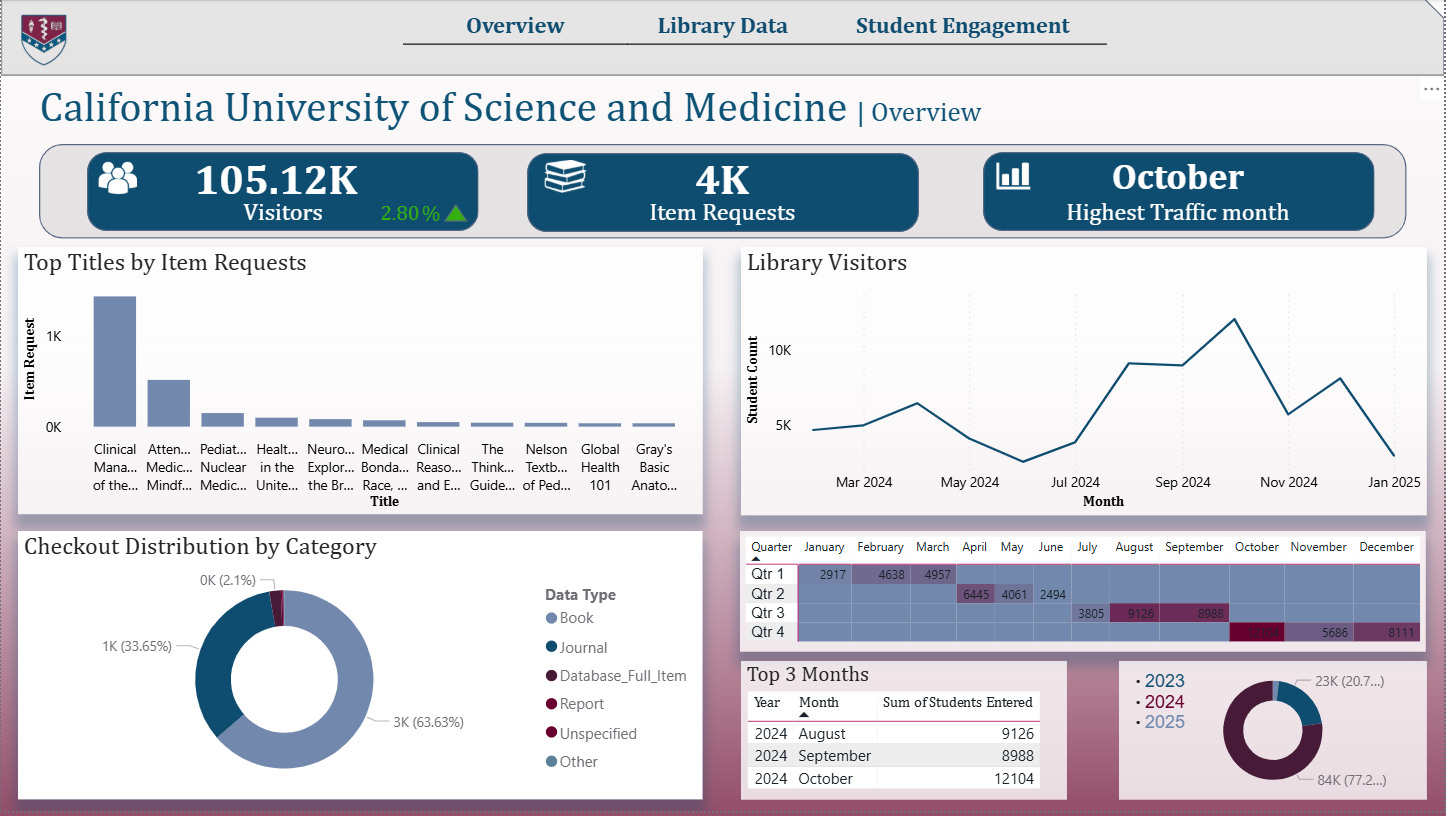

What the dashboard file says about the page in this screenshot:
{"tool":"powerbi","page":{"name":"Overview","canvas":[1280,720],"ordinal":0},"visuals":[{"type":"shape","box":[33.8,128.8,1212.5,83.8],"z":0},{"type":"shape","box":[76.4,135.5,347.3,70],"z":1000},{"type":"shape","box":[0,0,1280,68],"z":2000},{"type":"image","title":"California University of Science and Medicine","box":[0,0,76,64],"z":3000},{"type":"actionButton","title":"Overview","box":[356.2,11.2,198.8,45],"z":4000},{"type":"actionButton","title":"Library Data","box":[555,11.2,170,45],"z":5000},{"type":"actionButton","title":"Student Engagement ","box":[725,11.2,255,38.8],"z":6000},{"type":"textbox","box":[0,68,1280,60],"z":7000},{"type":"lineChart","title":"Library Visitors","fields":{"Y":["Max(Feb2024-Jan2025.Students Entered)"],"Category":["Feb2024-Jan2025.Month.Variation.Date Hierarchy.Year","Feb2024-Jan2025.Month.Variation.Date Hierarchy.Quarter","Feb2024-Jan2025.Month.Variation.Date Hierarchy.Month","Feb2024-Jan2025.Month.Variation.Date Hierarchy.Day"]},"box":[656,220,608,238],"z":8000},{"type":"image","box":[81.8,135.5,43.6,45.5],"z":9000},{"type":"cardVisual","fields":{"Data":["select","Sum(AY 23-24 Patron Count.IN's)","Sum(AY 24-25 Patron Count.IN's)","Sum(AY 25-26 Patron Count.IN's)"]},"box":[154.5,112.7,190.9,68.2],"z":10000},{"type":"shape","box":[466.2,136.2,347.5,70],"z":11000},{"type":"shape","box":[870.9,135.5,347.3,70],"z":12000},{"type":"cardVisual","fields":{"Data":["select","Sum(AY 23-24 Patron Count.visits)","Sum(AY 24-25 Patron Count.visits)"]},"box":[319.2,153.4,78.9,58.5],"z":13000},{"type":"shape","box":[392.5,182,21,15.5],"z":14000},{"type":"textbox","box":[368,172.9,30.1,33.7],"z":15000},{"type":"clusteredColumnChart","title":"Top Titles by Item Requests","fields":{"Category":["Title Report.Title"],"Y":["Sum(Title Report.reporting_period_total_num)"]},"box":[15.5,220,607.3,237.3],"z":16000},{"type":"cardVisual","fields":{"Data":["Sum(Title Report.reporting_period_total_num)"]},"box":[598.5,112.6,83.3,68.3],"z":17000},{"type":"image","box":[476.7,135,46.7,45],"z":18000},{"type":"textbox","box":[166.5,171.5,167,36.5],"z":19000},{"type":"donutChart","title":"Checkout Distribution by Category","fields":{"Category":["Platform Report File.Data_Type"],"Y":["Sum(Platform Report File.Reporting_Period_Total)"]},"box":[15.5,471.8,607.3,238.2],"z":20000},{"type":"textbox","box":[476.5,171,327,36.5],"z":21000},{"type":"pivotTable","title":"Library Visitors","fields":{"Rows":["Feb2024-Jan2025.Month.Variation.Date Hierarchy.Quarter"],"Columns":["Feb2024-Jan2025.Month.Variation.Date Hierarchy.Month"],"Values":["Sum(Feb2024-Jan2025.Students Entered)"]},"box":[655.5,471.8,608.2,107.3],"z":22000},{"type":"tableEx","title":"Top 3 Months","fields":{"Values":["Feb2024-Jan2025.Month.Variation.Date Hierarchy.Year","Feb2024-Jan2025.Month.Variation.Date Hierarchy.Month","Sum(Feb2024-Jan2025.Students Entered)"]},"box":[655.7,587.1,288.6,122.9],"z":23000},{"type":"donutChart","fields":{"Y":["Sum(AY 25-26 Patron Count.IN\"s)","Sum(AY 23-24 Patron Count.IN\"s)","Sum(AY 24-25 Patron Count.IN\"s)"]},"box":[991.4,587.1,272.9,122.9],"z":24000},{"type":"image","box":[871.4,134.3,51.4,40],"z":25000},{"type":"textbox","box":[881.4,134.3,324.3,84.3],"z":26000},{"type":"textbox","box":[991.4,591.4,67.1,70],"z":27000}]}

Visuals, with their boxes in screenshot pixels (x1, y1, x2, y2), scaled from the page's 1280x720 canvas onto the 1446x816 screenshot:
shape: bbox(38, 146, 1408, 241)
shape: bbox(86, 154, 479, 233)
shape: bbox(0, 0, 1445, 77)
"California University of Science and Medicine" image: bbox(0, 0, 86, 73)
"Overview" actionButton: bbox(402, 13, 627, 64)
"Library Data" actionButton: bbox(627, 13, 819, 64)
"Student Engagement " actionButton: bbox(819, 13, 1107, 57)
textbox: bbox(0, 77, 1445, 145)
"Library Visitors" lineChart: bbox(741, 249, 1428, 519)
image: bbox(92, 154, 142, 205)
cardVisual - select x Sum(AY 23-24 Patron Count.IN's): bbox(175, 128, 390, 205)
shape: bbox(527, 154, 919, 234)
shape: bbox(984, 154, 1376, 233)
cardVisual - select x Sum(AY 23-24 Patron Count.visits): bbox(361, 174, 450, 240)
shape: bbox(443, 206, 467, 224)
textbox: bbox(416, 196, 450, 234)
"Top Titles by Item Requests" clusteredColumnChart: bbox(18, 249, 704, 518)
cardVisual - Sum(Title Report.reporting_period_total_num): bbox(676, 128, 770, 205)
image: bbox(539, 153, 591, 204)
textbox: bbox(188, 194, 377, 236)
"Checkout Distribution by Category" donutChart: bbox(18, 535, 704, 805)
textbox: bbox(538, 194, 908, 235)
"Library Visitors" pivotTable: bbox(741, 535, 1428, 656)
"Top 3 Months" tableEx: bbox(741, 665, 1067, 805)
donutChart - Sum(AY 25-26 Patron Count.IN"s) x Sum(AY 23-24 Patron Count.IN"s): bbox(1120, 665, 1428, 805)
image: bbox(984, 152, 1042, 198)
textbox: bbox(996, 152, 1362, 248)
textbox: bbox(1120, 670, 1196, 750)
